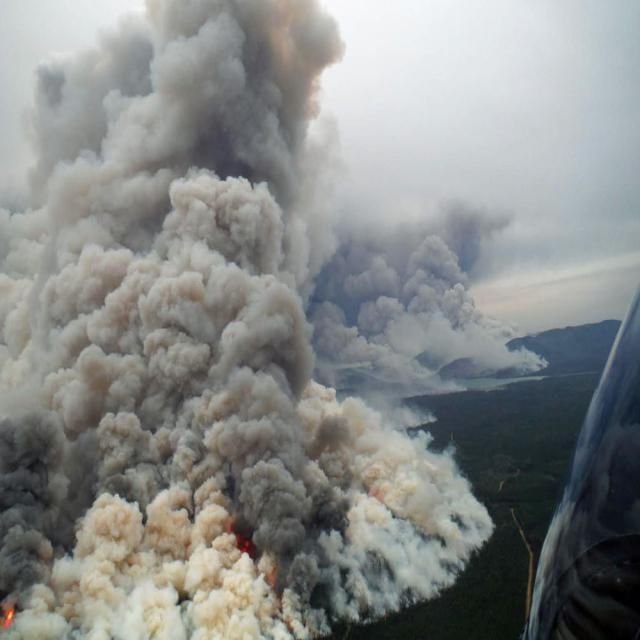Smoke: (0, 4, 494, 638)
